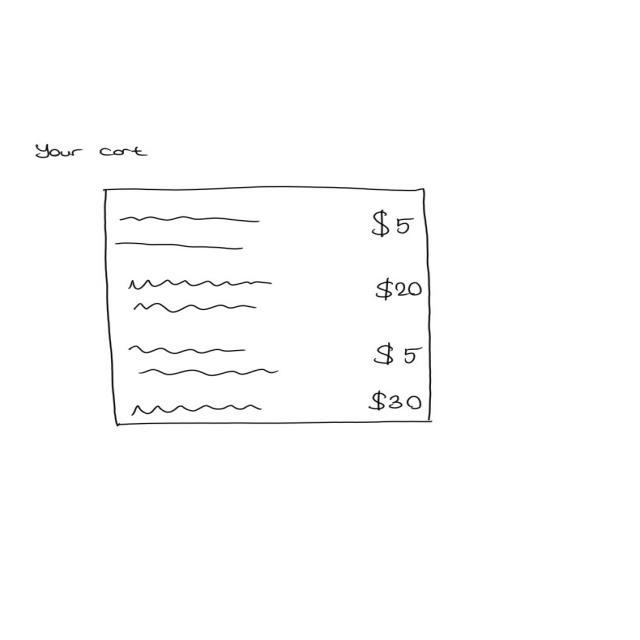container: (103, 187, 435, 428)
label: (34, 144, 150, 161), (374, 342, 426, 368), (372, 209, 417, 239), (369, 390, 424, 414), (377, 277, 424, 302)
text: (130, 403, 264, 419), (118, 216, 266, 226), (116, 242, 246, 252)
textbox: (126, 277, 278, 317), (122, 346, 284, 378)
